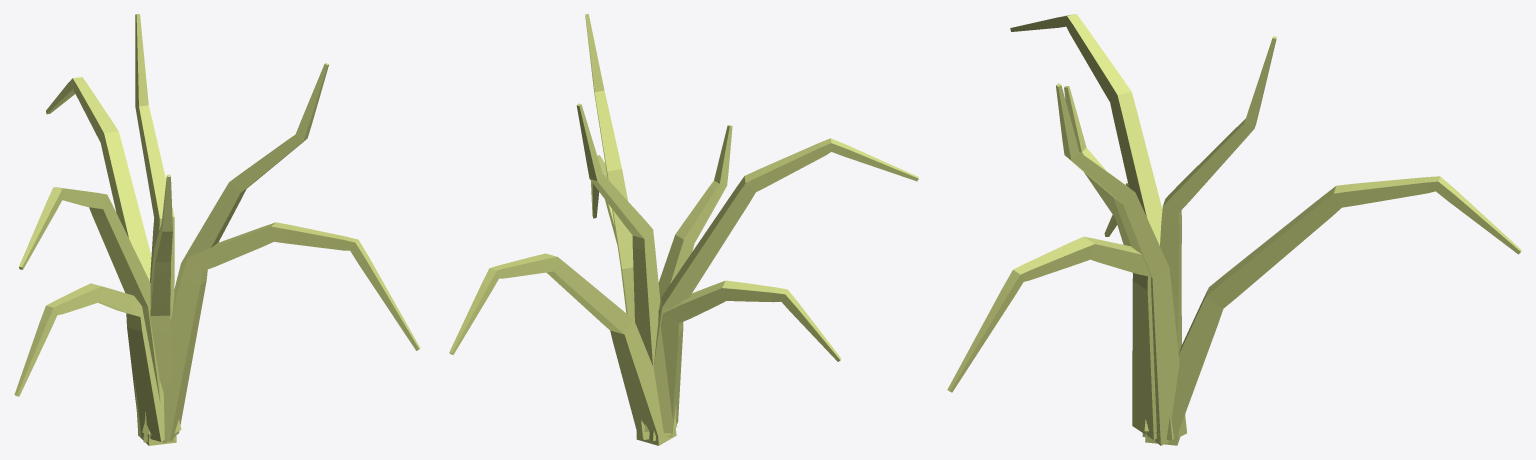
The model's file is Grass_Big.fbx.
3 views of the same model, side by side, from view 1: azimuth 30°, elevation 25°; view 2: azimuth 150°, elevation 25°; view 3: azimuth 270°, elevation 25° (orthographic). The views are drawn at different scales.
Parts seen in each view (by area): view 1: Grass; view 2: Grass; view 3: Grass.
Part boxes in pixels (box(x1,y1,x2,y2)): Grass: box(14, 14, 420, 445); Grass: box(449, 14, 918, 445); Grass: box(947, 14, 1521, 445).
Size of the model in its own units: 69.28 by 67.92 by 84.53.
